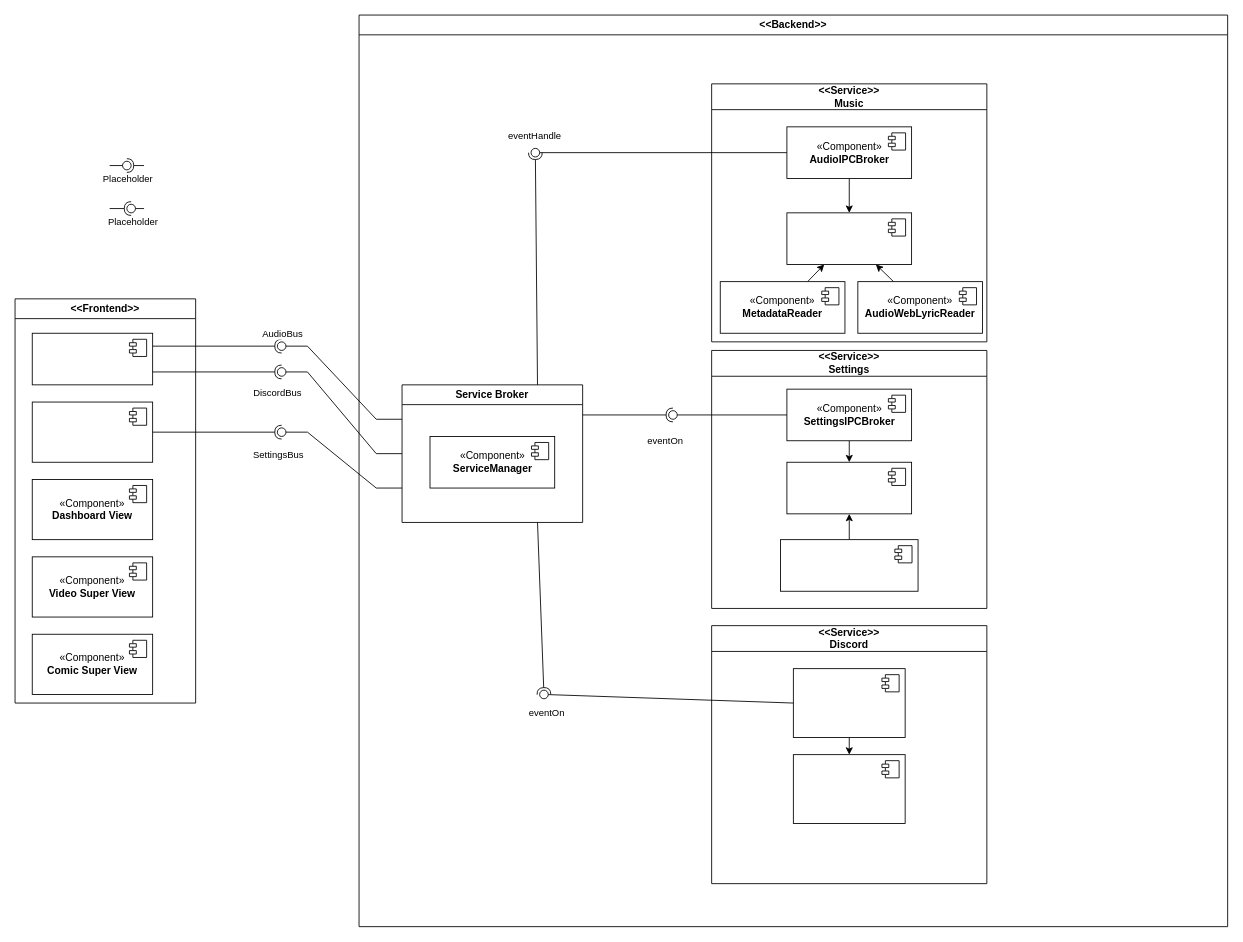
Image size: 1243x942. Some labels were removed from this diagram. Each missing label, with the centre of its shape:
«Component» AudioManager: point 849,238
«Component» DiscordIPCBroker: point 848,702
«Component» DiscordManager: point 848,788
«Component» Music Super View: point 92,358
«Component» SettingsManager: point 849,487
«Component» SettingsWindowController: point 849,565
«Component» Utilty Super View: point 92,431
